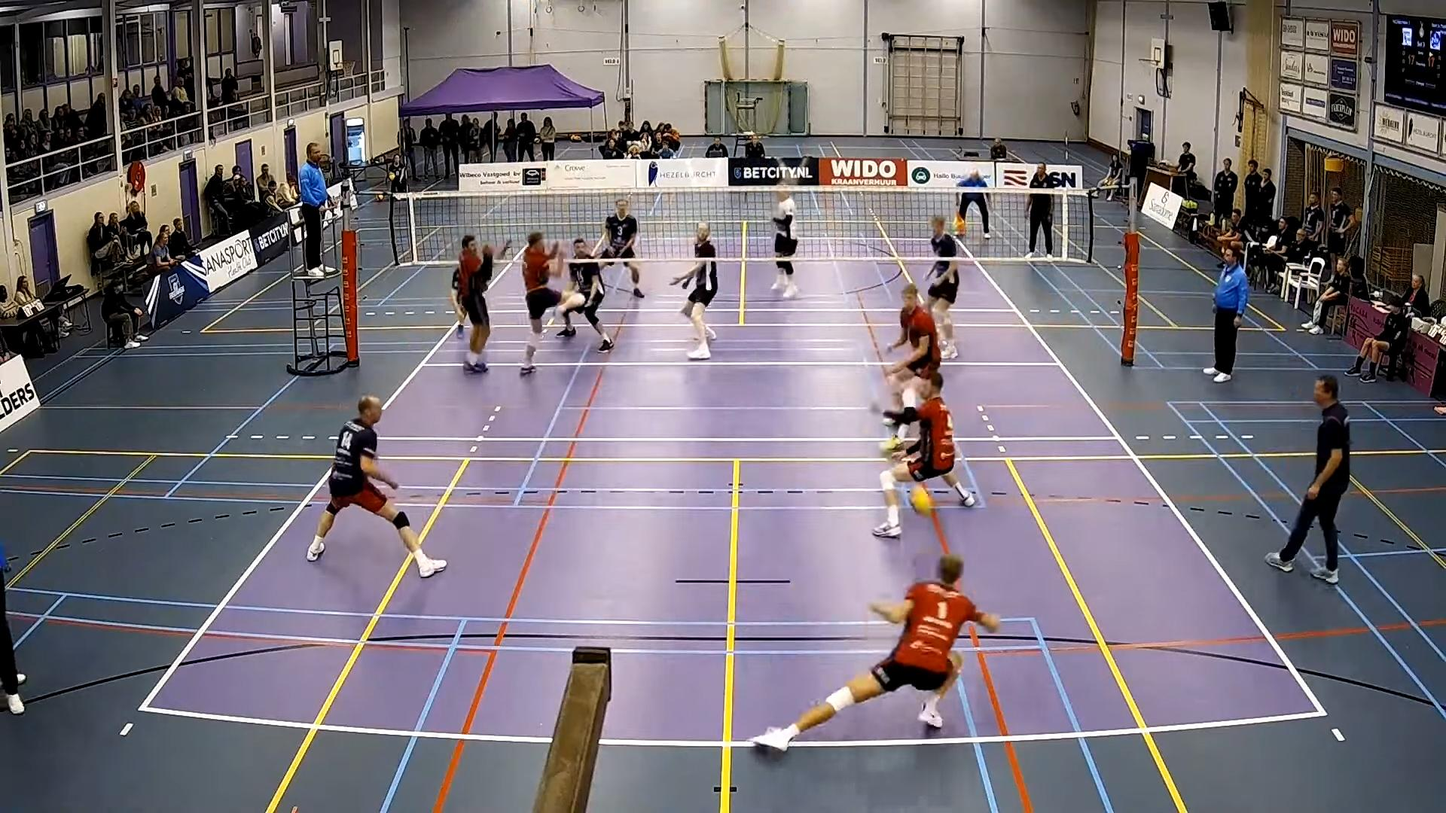difesa: (755, 558, 1001, 757)
